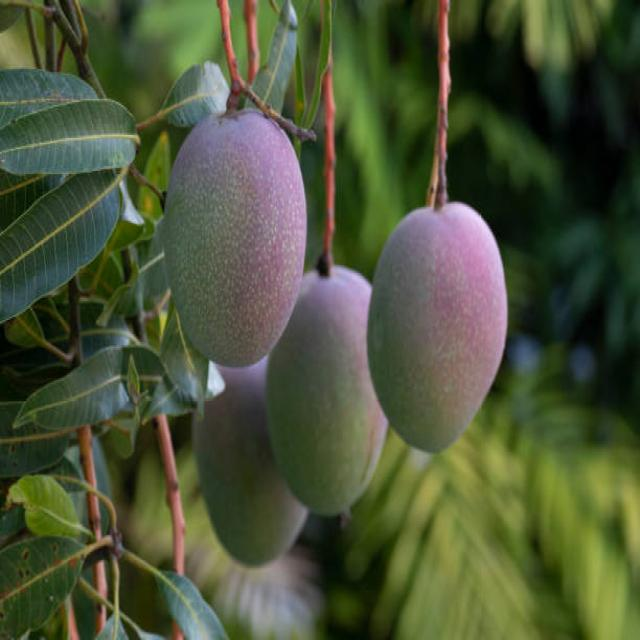mango: (368, 0, 508, 451), (165, 111, 306, 367), (266, 266, 388, 515), (192, 356, 308, 565)
